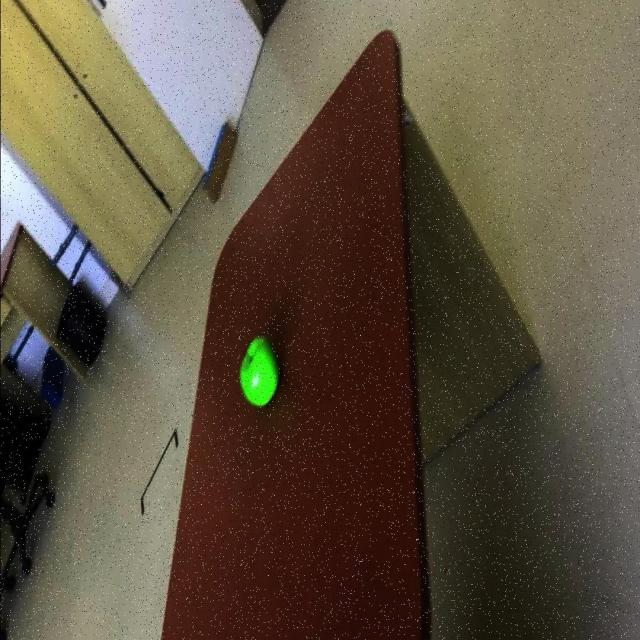Apple: (239, 336, 281, 410)
